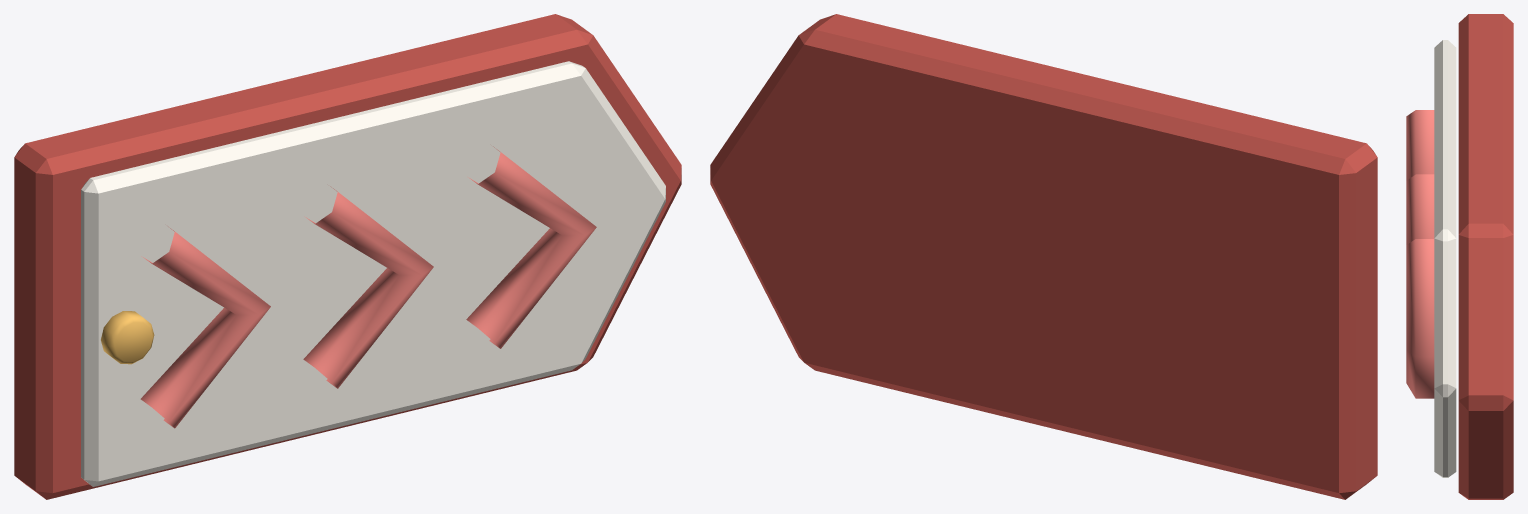
The model's file is route_rush.glb.
The picture shows the model from 3 angles, left to right: view 1: azimuth 30°, elevation 25°; view 2: azimuth 150°, elevation 25°; view 3: azimuth 270°, elevation 25°; orthographic projection. The views are drawn at different scales.
Visible parts, largest first — view 1: Route_Cream, Route_CoralDark, Route_Coral, Route_Gold; view 2: Route_CoralDark; view 3: Route_CoralDark, Route_Cream, Route_Coral.
Part boxes in pixels (x1,y1,x2,y2): Route_Cream: [81, 61, 665, 486]; Route_CoralDark: [14, 14, 681, 499]; Route_Coral: [140, 146, 596, 428]; Route_Gold: [101, 311, 154, 364]; Route_CoralDark: [710, 14, 1377, 499]; Route_CoralDark: [1458, 14, 1513, 499]; Route_Cream: [1434, 40, 1456, 477]; Route_Coral: [1406, 110, 1434, 398].
Size of the model in its own units: 0.7137 by 0.36 by 0.1265.
